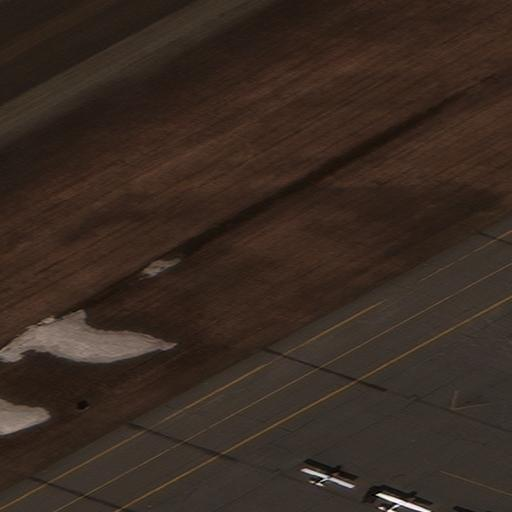Small Civil Transport: (378, 491, 431, 512), (304, 466, 356, 486)
